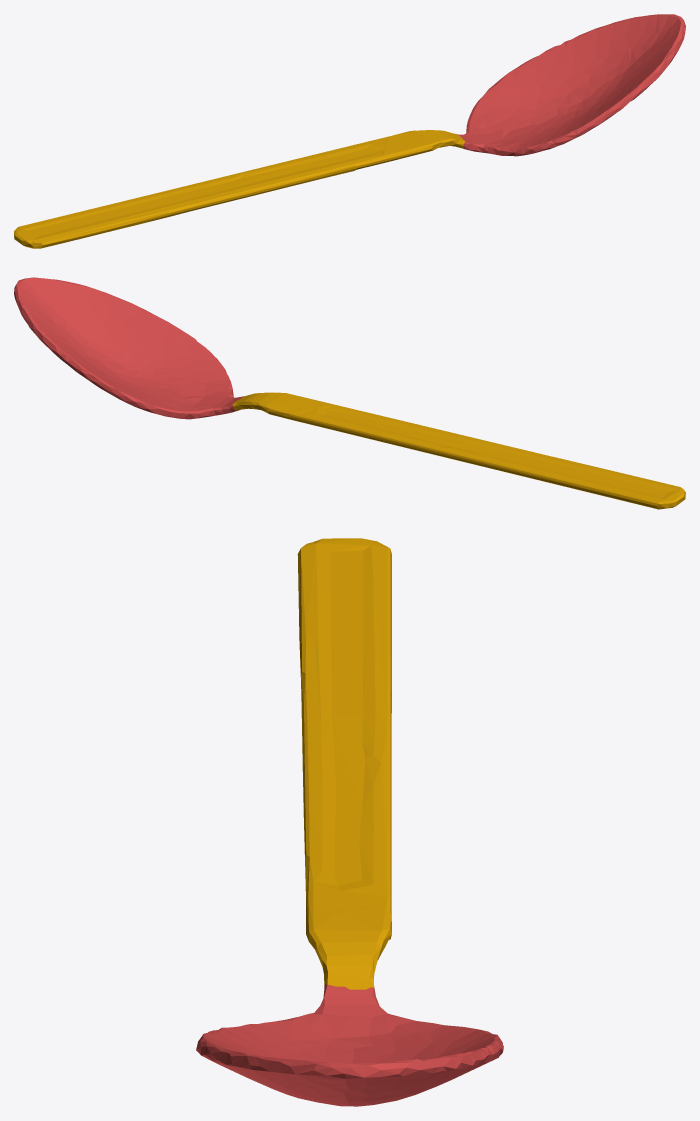
The model's file is mode_1_2pcs.glb.
3 views of the same model, one above another, from view 1: azimuth 30°, elevation 25°; view 2: azimuth 150°, elevation 25°; view 3: azimuth 270°, elevation 25° (orthographic). The views are drawn at different scales.
Visible parts, largest first — view 1: piece_1.obj, piece_0.obj; view 2: piece_1.obj, piece_0.obj; view 3: piece_0.obj, piece_1.obj.
Boxes of the visible parts, left/top/right/bottom form: piece_1.obj: left=457, top=14, right=685, bottom=156; piece_0.obj: left=14, top=130, right=465, bottom=248; piece_1.obj: left=14, top=277, right=243, bottom=419; piece_0.obj: left=232, top=392, right=685, bottom=509; piece_0.obj: left=297, top=538, right=391, bottom=989; piece_1.obj: left=196, top=984, right=503, bottom=1106.
Size of the model in its own units: 1 by 0.118 by 0.2013.
